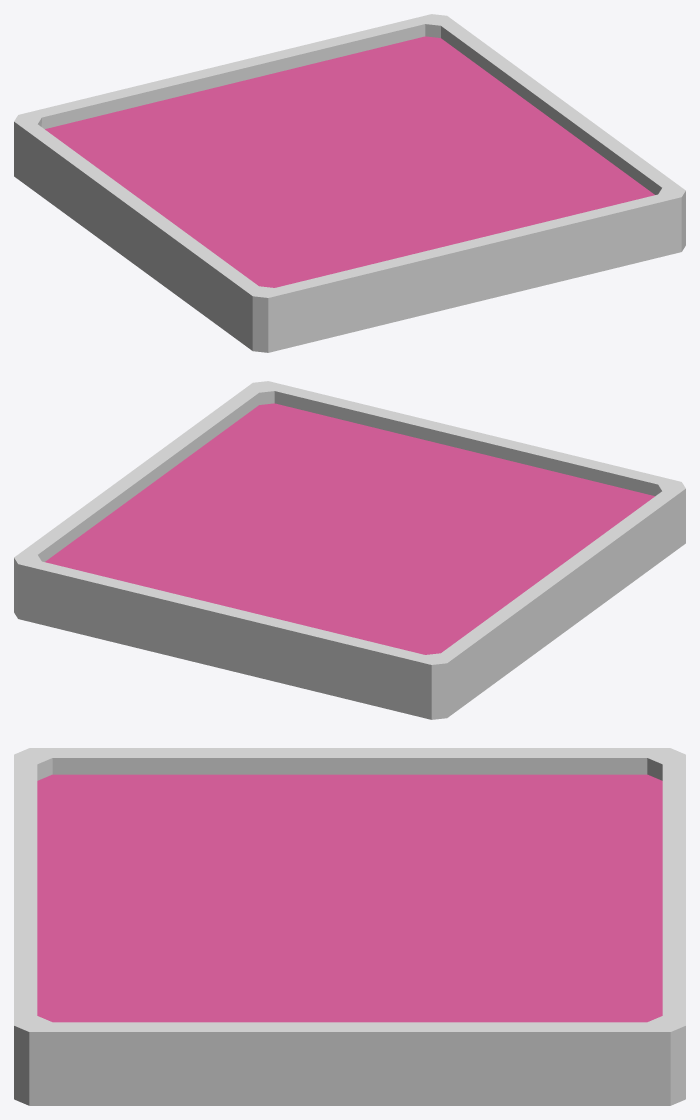
The model's file is SM_CeilingSquareLamp.fbx.
The picture shows the model from 3 angles, top to bottom: view 1: azimuth 30°, elevation 25°; view 2: azimuth 150°, elevation 25°; view 3: azimuth 270°, elevation 25°; orthographic projection. The views are drawn at different scales.
Visible parts, largest first — view 1: Cube; view 2: Cube; view 3: Cube.
Boxes of the visible parts, left/top/right/bottom form: Cube: left=14, top=14, right=685, bottom=352; Cube: left=14, top=381, right=685, bottom=719; Cube: left=14, top=748, right=685, bottom=1105.
Size of the model in its own units: 106 by 12.81 by 106.
